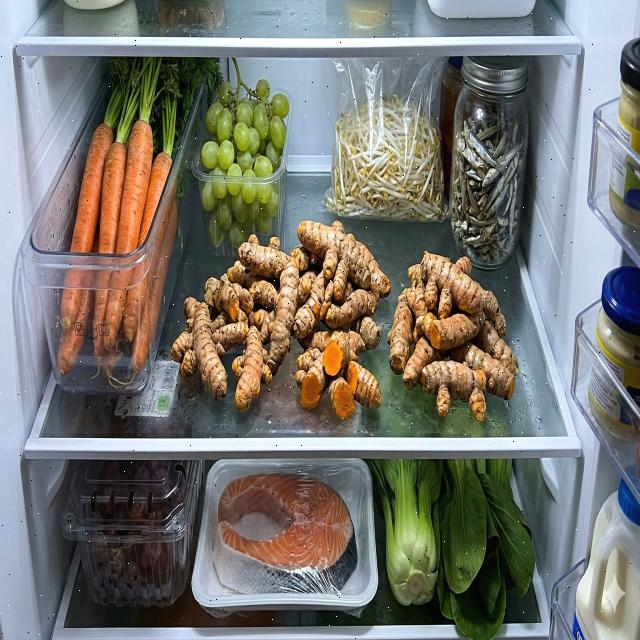anchovies: (450, 115, 524, 265)
bean_sprouts: (324, 94, 446, 222)
carrot: (58, 119, 179, 377)
fish: (212, 473, 358, 594)
grape: (62, 461, 206, 605), (202, 58, 290, 251)
pakchoy: (370, 458, 535, 640)
turmeric: (172, 220, 392, 420), (388, 250, 520, 422)
